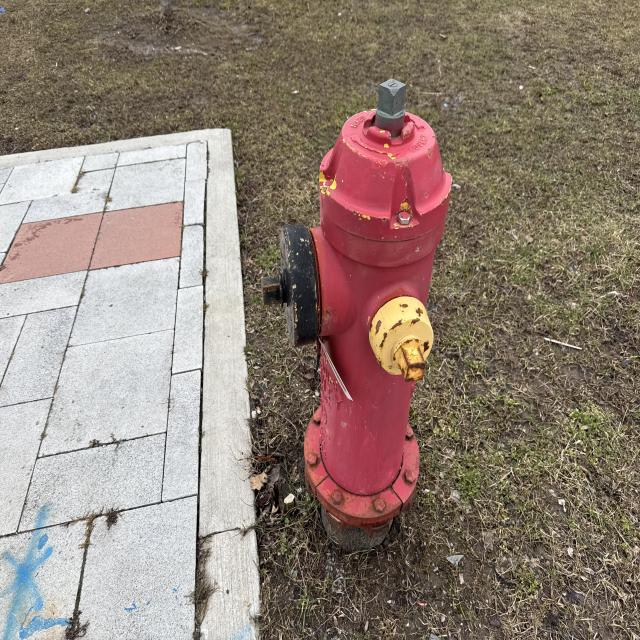Fire hydrant: (262, 78, 452, 538)
